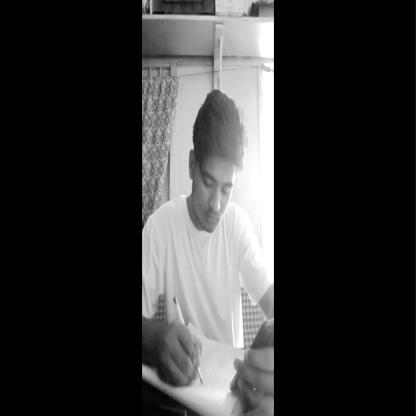Distracted: (187, 86, 240, 230)
